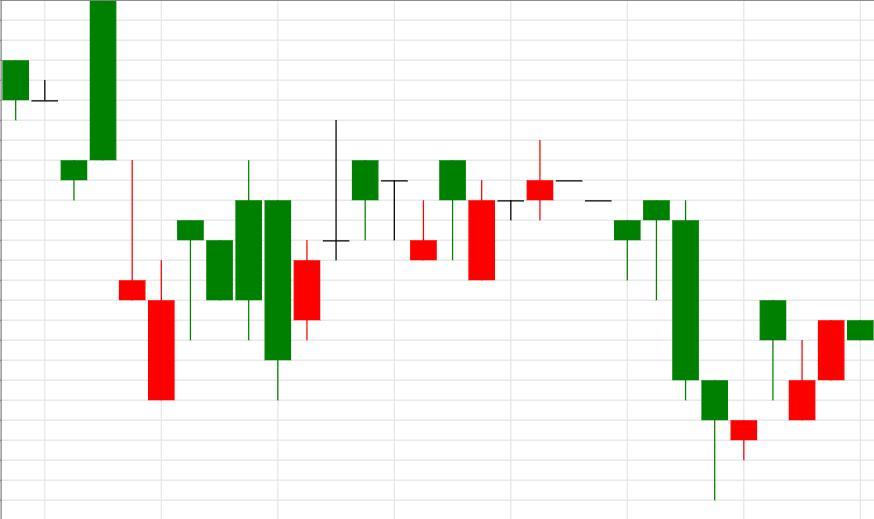hammer_rise: (556, 179, 728, 500)
